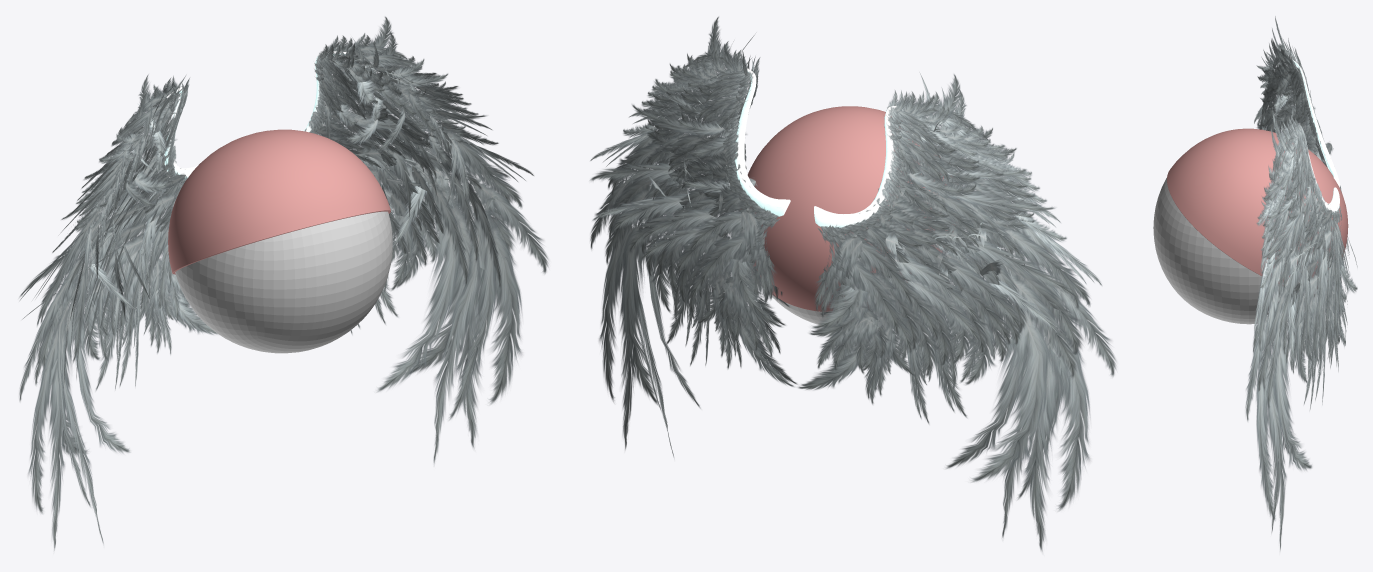
Rendered from aniso_angel_2k_comp.glb.
3 renders of one model, left to right at view 1: azimuth 30°, elevation 25°; view 2: azimuth 150°, elevation 25°; view 3: azimuth 270°, elevation 25°, orthographic. The views are drawn at different scales.
Visible parts, largest first — view 1: wings, eyeball, eyelid; view 2: wings, eyelid; view 3: wings, eyelid, eyeball.
Part boxes in pixels (<box>): wings: <box>19,16,548,550</box>; eyeball: <box>175,211,392,353</box>; eyelid: <box>168,129,390,274</box>; wings: <box>590,16,1116,551</box>; eyelid: <box>740,106,958,311</box>; wings: <box>1245,16,1357,550</box>; eyelid: <box>1167,128,1348,288</box>; eyeball: <box>1153,178,1314,324</box>.
Bounding box in the file's own units: 2.45 × 2.02 × 0.9246.
4 materials, 2 textured.
